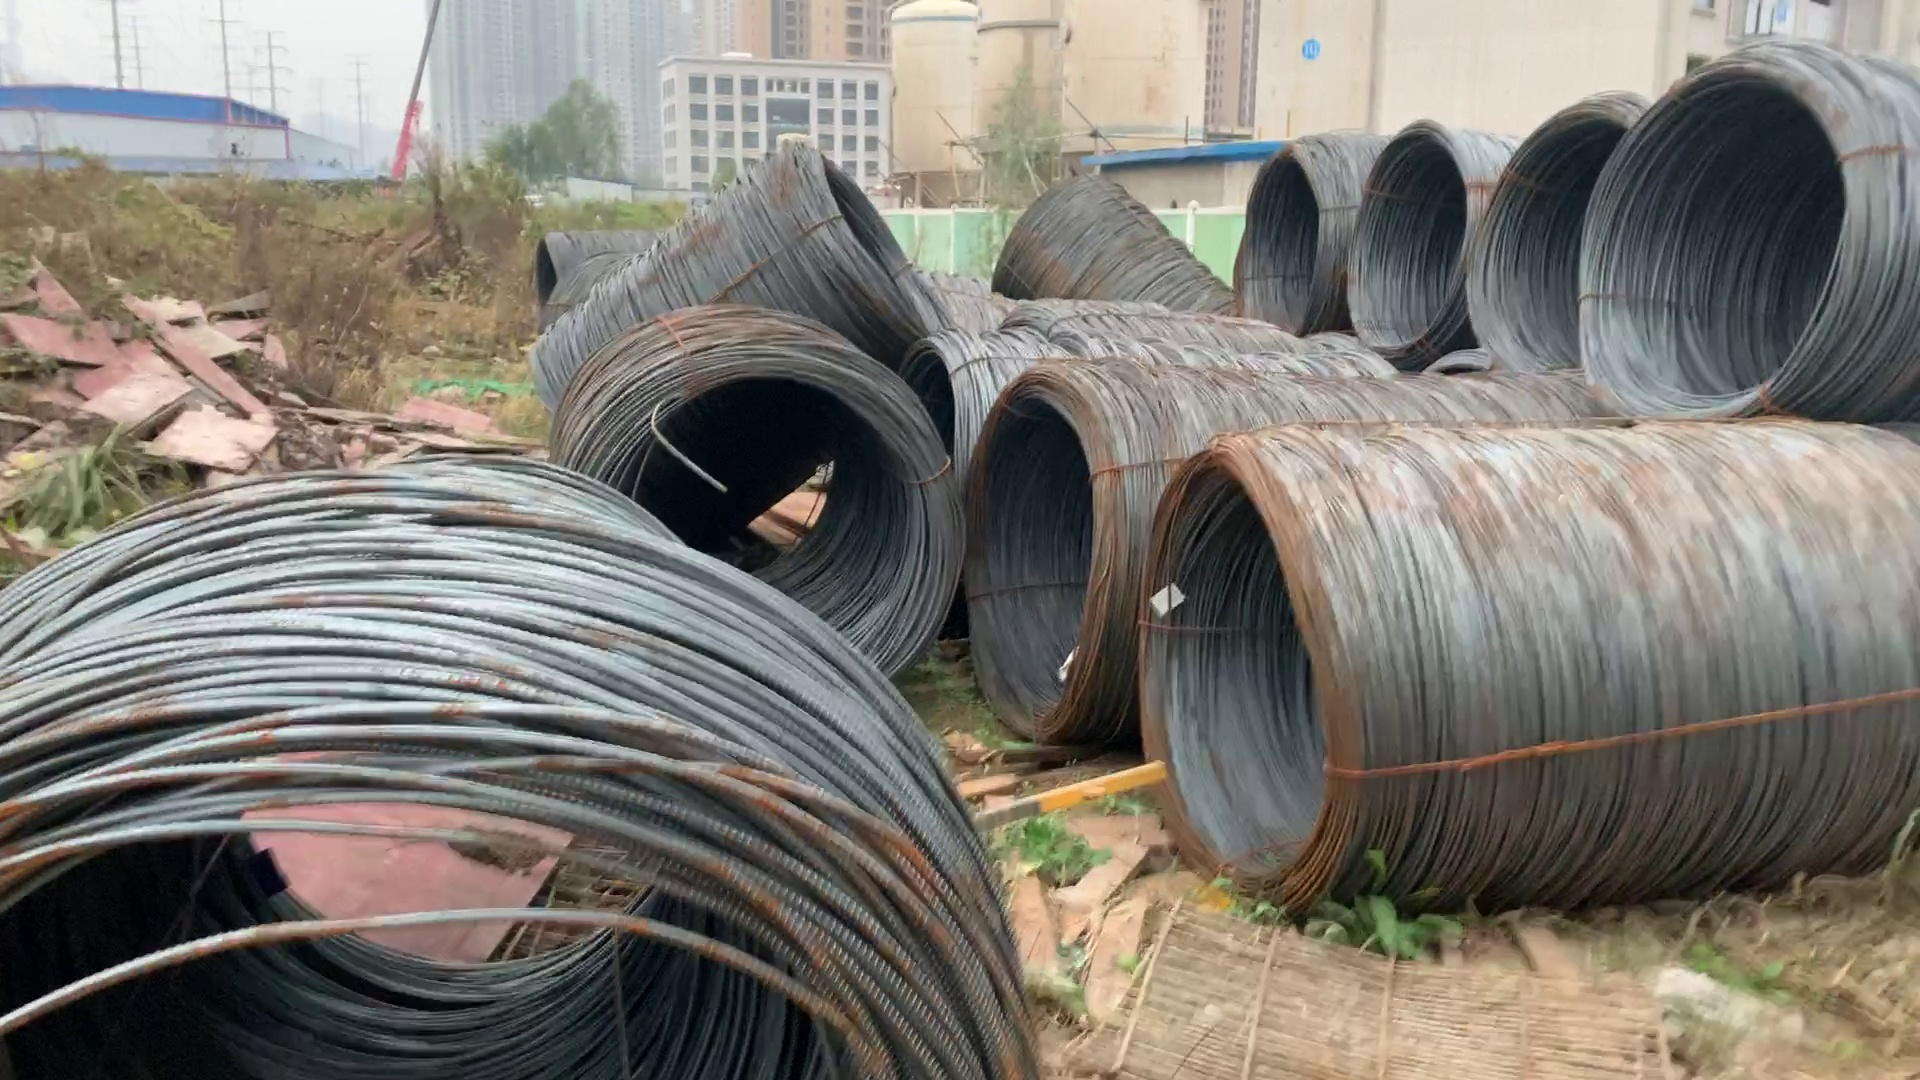coil: (57, 516, 1058, 1071), (571, 342, 965, 688), (1116, 433, 1377, 953), (1560, 57, 1844, 429), (957, 375, 1124, 742), (790, 135, 977, 392), (1477, 102, 1633, 393), (1340, 117, 1468, 368), (1224, 149, 1338, 332), (524, 227, 564, 335)
